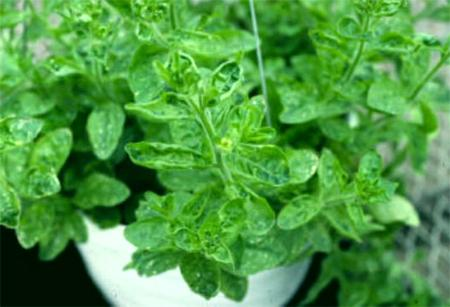Tomato leaf mosaic virus: (219, 137, 297, 187), (120, 142, 205, 172), (275, 191, 331, 234), (10, 169, 62, 199), (161, 230, 203, 252)
